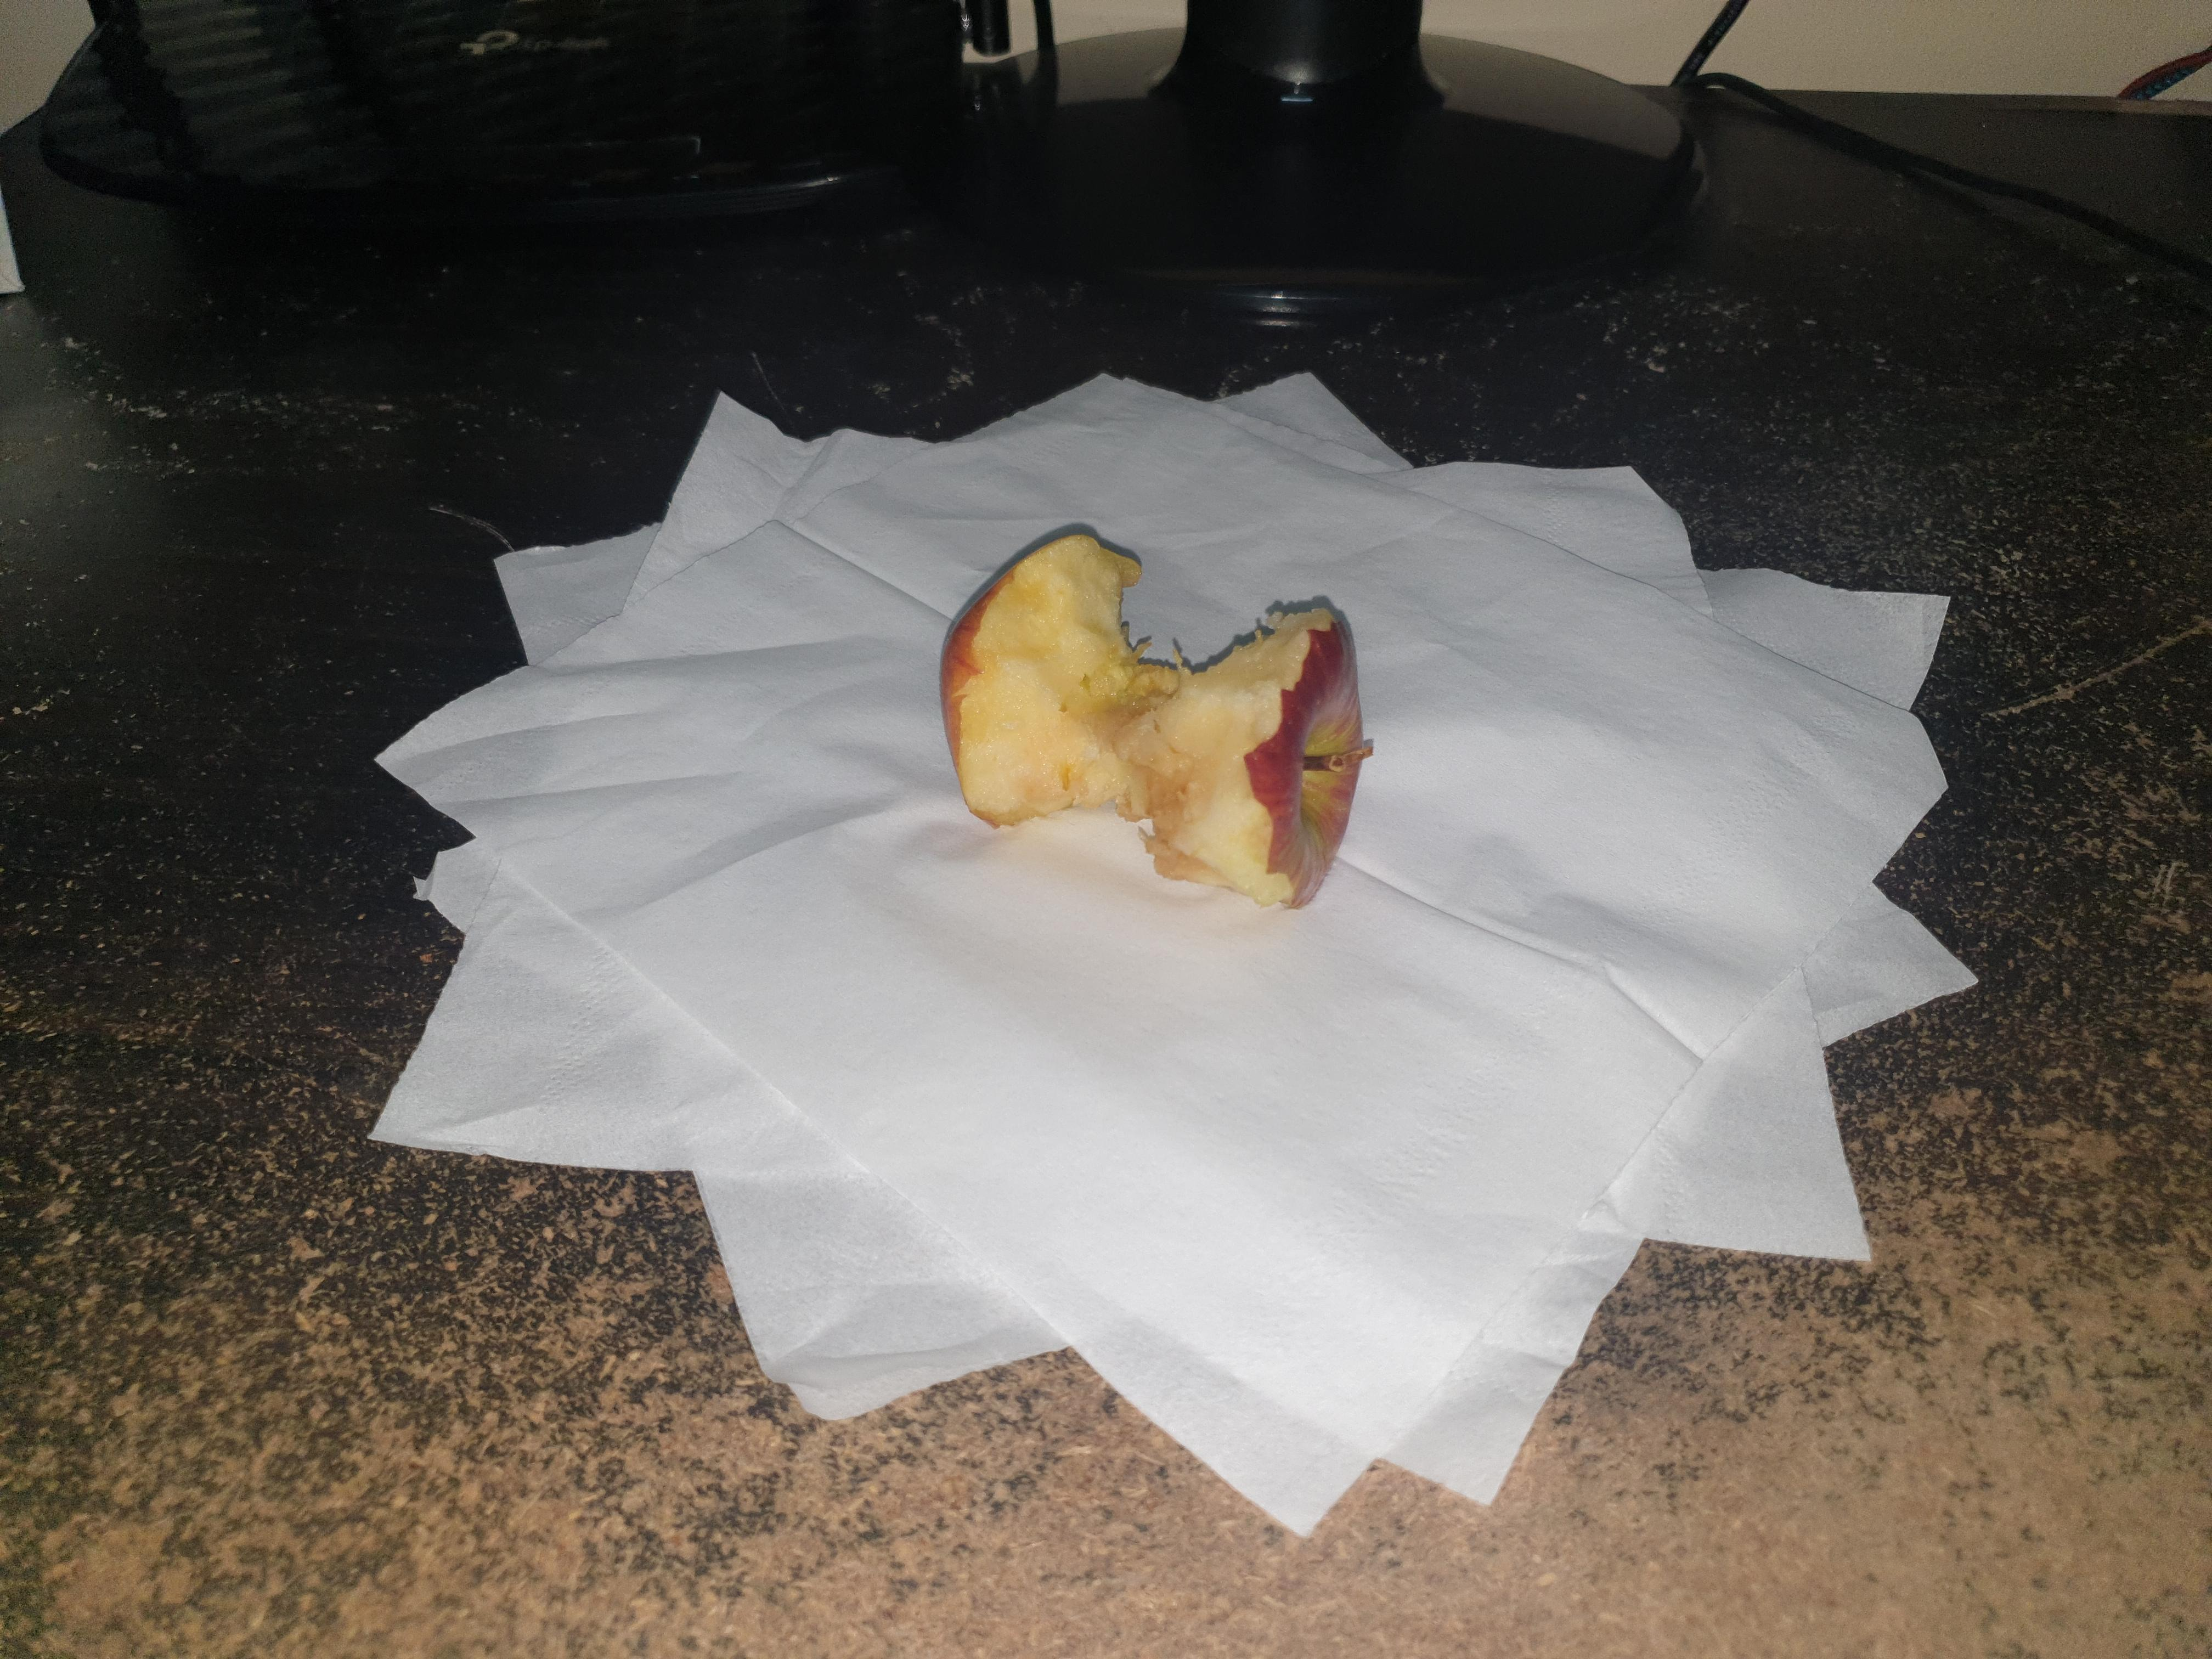Apple: (928, 495, 1400, 922)
